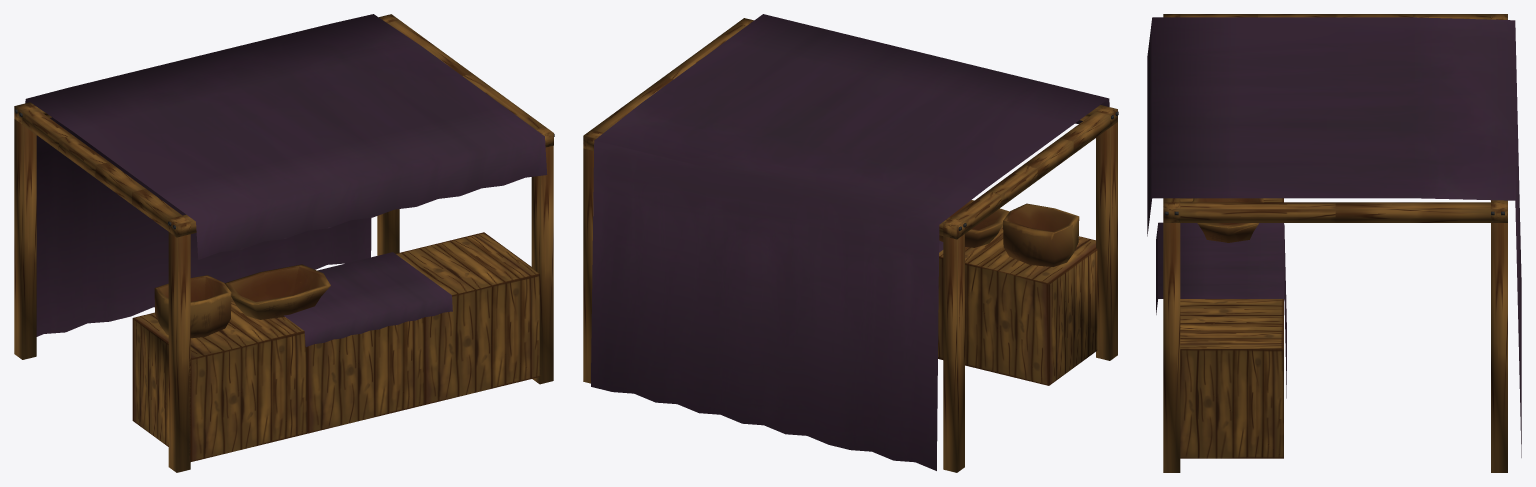
The model's file is Barraca.fbx.
3 renders of one model, left to right at view 1: azimuth 30°, elevation 25°; view 2: azimuth 150°, elevation 25°; view 3: azimuth 270°, elevation 25°, orthographic. The views are drawn at different scales.
Visible parts, largest first — view 1: Cube.002, Cube.001, Cube; view 2: Cube.002, Cube, Cube.001; view 3: Cube.002, Cube, Cube.001.
Part boxes in pixels (x1,y1,x2,y2): Cube.002: (25,14,547,346); Cube.001: (132,232,540,461); Cube: (14,14,554,472); Cube.002: (591,14,1109,470); Cube: (583,18,1118,472); Cube.001: (938,225,1097,385); Cube.002: (1147,17,1521,457); Cube: (1163,14,1507,472); Cube.001: (1180,198,1283,458).
Bounding box in the file's own units: 540 × 342 × 434.
